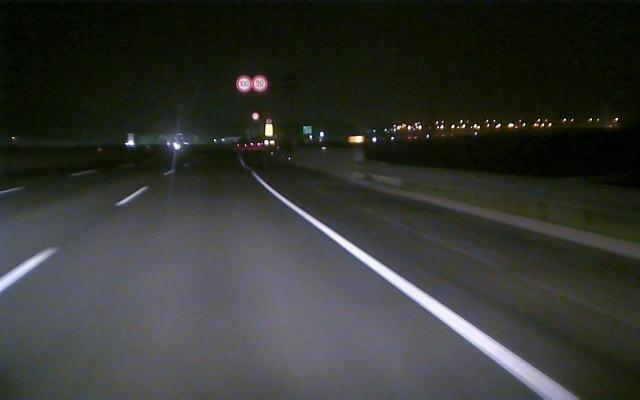lane: (257, 178, 578, 396), (1, 189, 144, 291)
